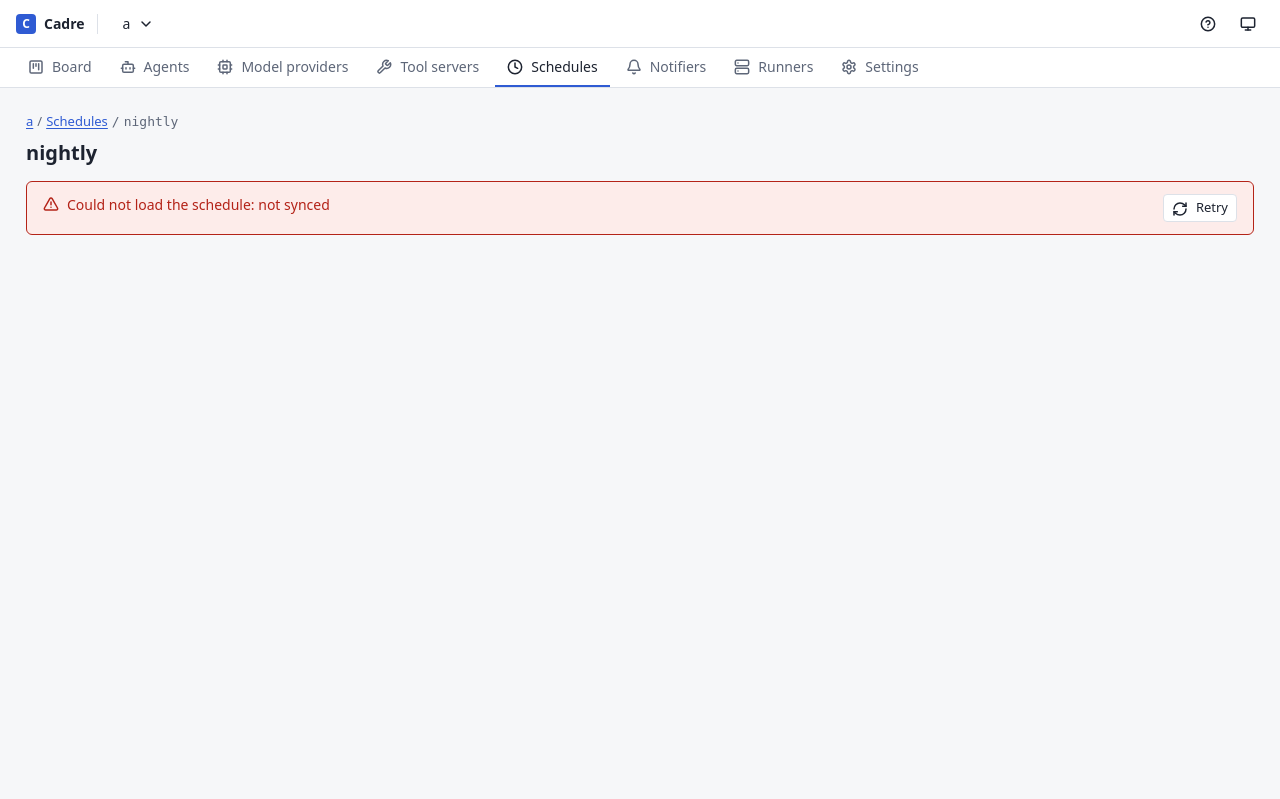
it: ScheduleDetail › shows a failed read with Retry, which reads again
The width and height of the screenshot is (1280, 799).
Expected: the text "Could not load the schedule: not synced" is shown, [67, 194, 330, 214]
Click the button "Retry" at (1200, 208), box [1163, 194, 1237, 222]
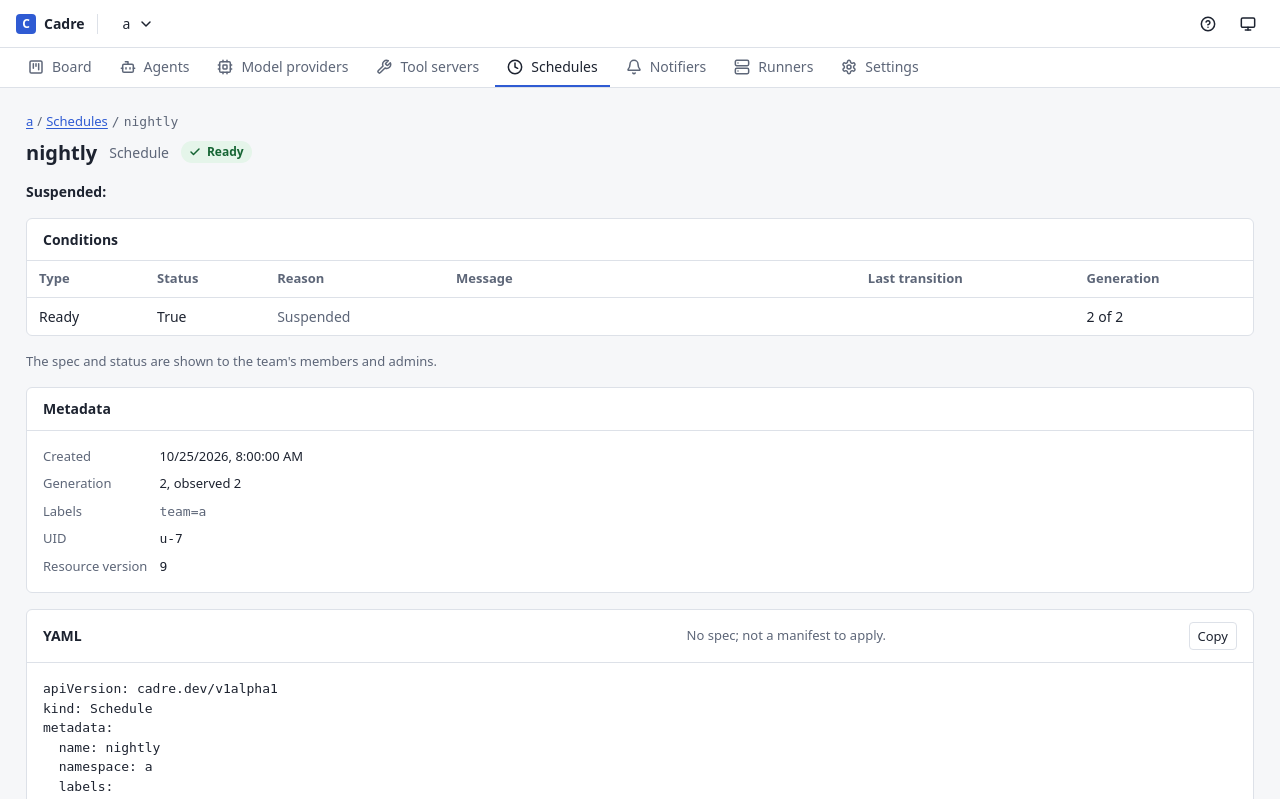
Expected: the element named "Conditions table" is shown, [27, 261, 1253, 334]
Expected: the text "Could not load the schedule" is gone
